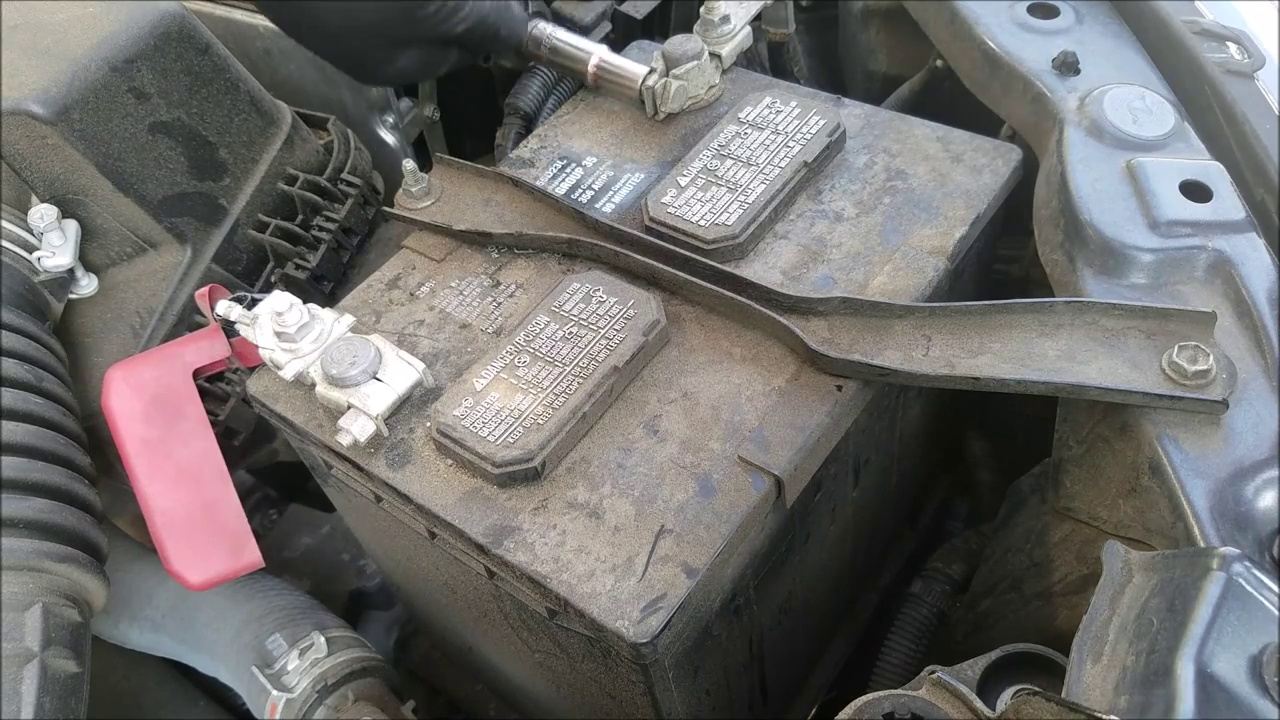battery: (188, 12, 1000, 622)
neg_connected: (639, 5, 757, 126)
pos_connected: (120, 286, 436, 474)
